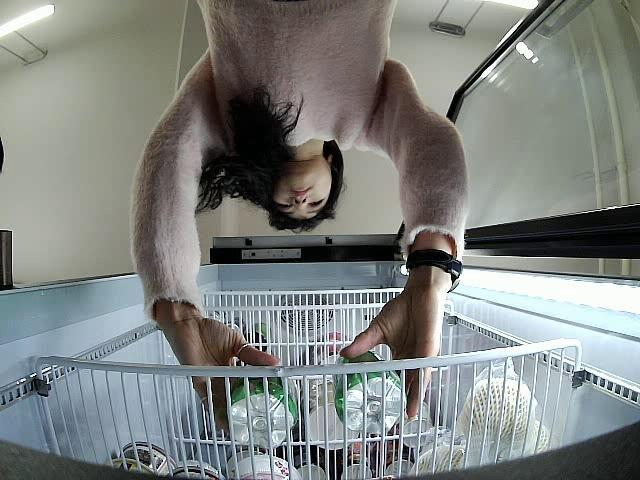18_trevi: (335, 350, 407, 436), (230, 378, 299, 452)
